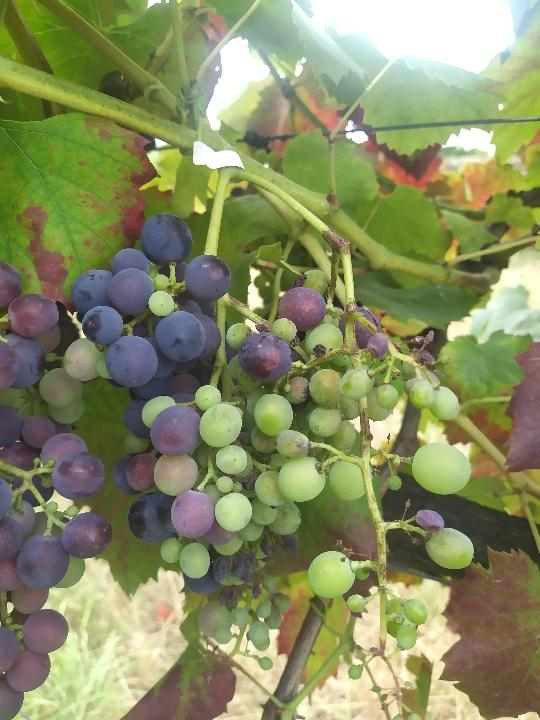grape: (66, 207, 307, 615), (277, 262, 479, 683)
